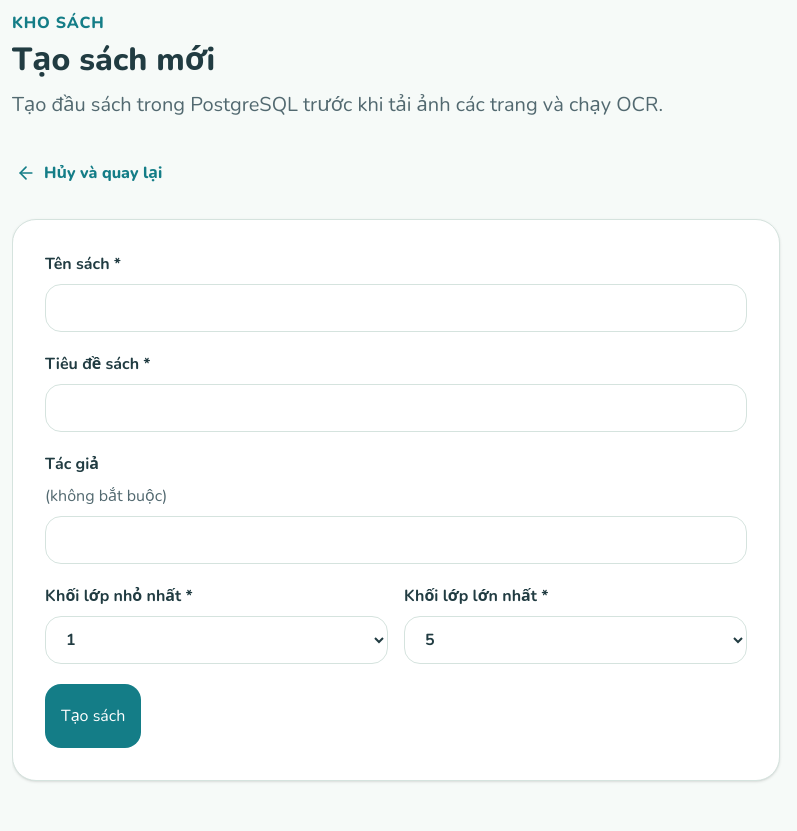
Scenario: AdminNewBookScreen › rejects an empty name
The width and height of the screenshot is (797, 831).
Type "Tiêu đề hợp lệ" into the field labelled "Tiêu đề sách *" at (396, 408), box 45,384 -> 747,432
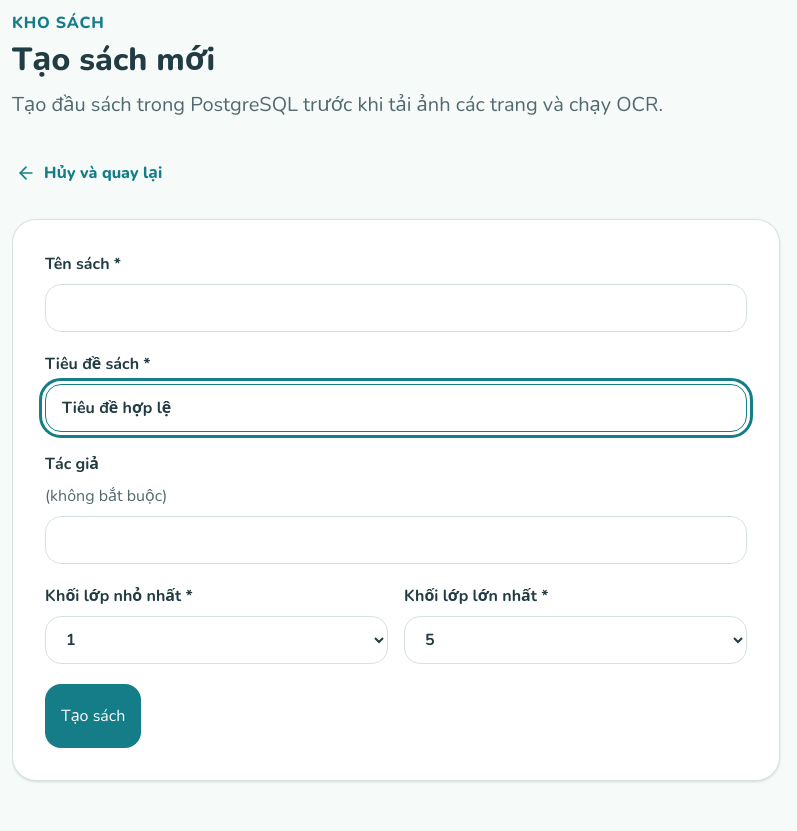
Click the button "Tạo sách" at (93, 716), box 45,684 -> 141,748
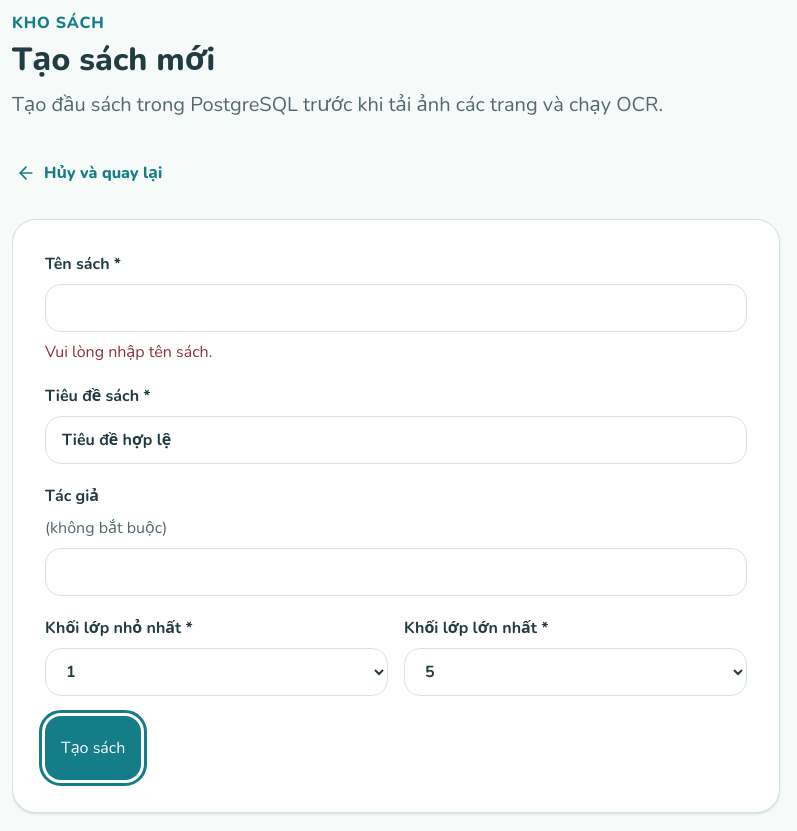
Expected: the message reads "Vui lòng nhập tên sách.", 45,341 -> 212,363
